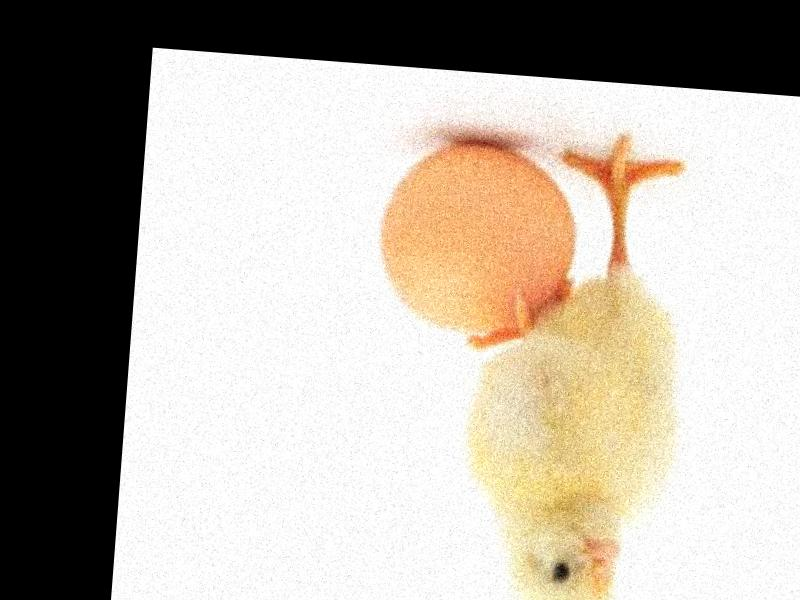Eggs: (370, 138, 585, 349)
